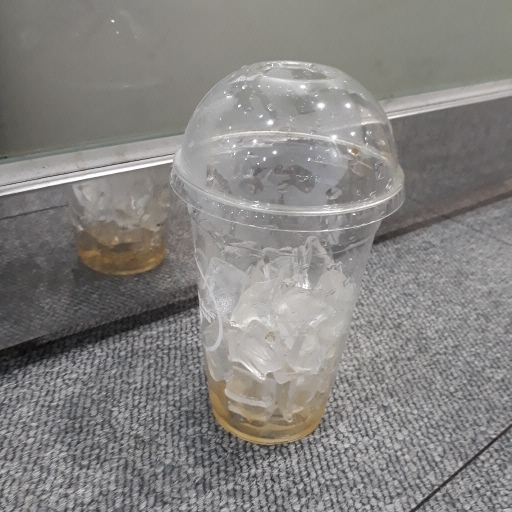Plastic_2: (171, 62, 403, 449)
